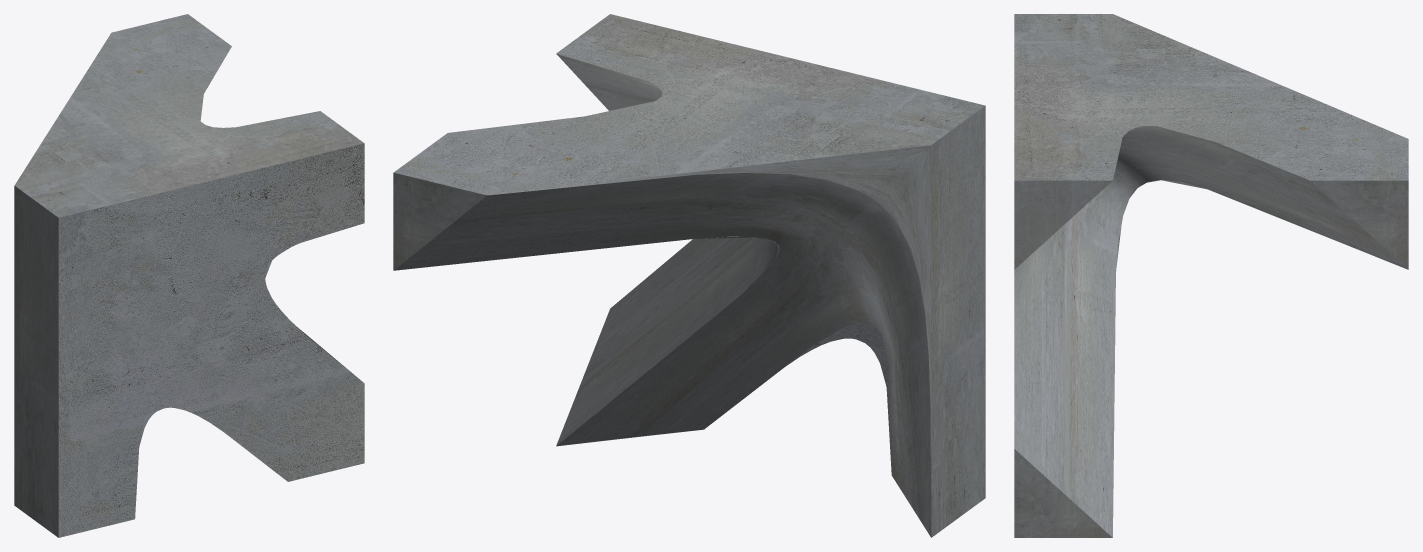
File: module_N1.fbx
3 views of the same model, side by side, from view 1: azimuth 30°, elevation 25°; view 2: azimuth 150°, elevation 25°; view 3: azimuth 270°, elevation 25° (orthographic). The views are drawn at different scales.
Parts seen in each view (by area): view 1: modules; view 2: modules; view 3: modules.
Part boxes in pixels (<box>): modules: <box>14,14,364,537</box>; modules: <box>393,14,985,537</box>; modules: <box>1014,14,1408,537</box>.
Bounding box in the file's own units: 1000 × 1000 × 1000.
1 material, 1 textured.
